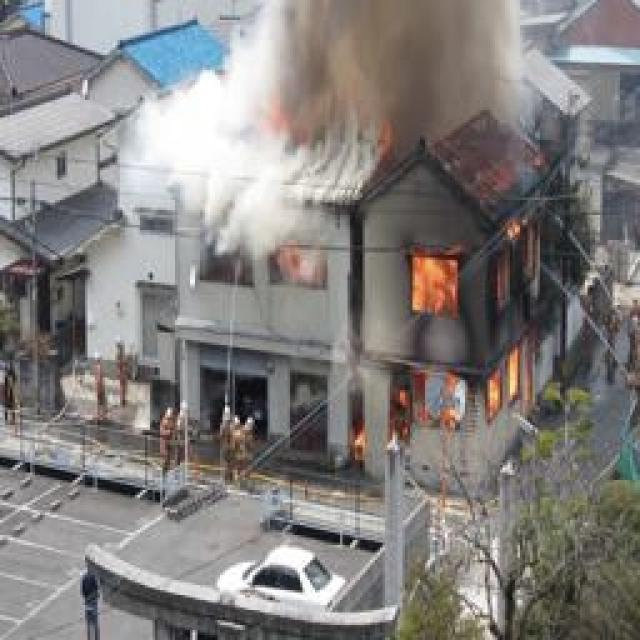Fire: (329, 217, 544, 480)
